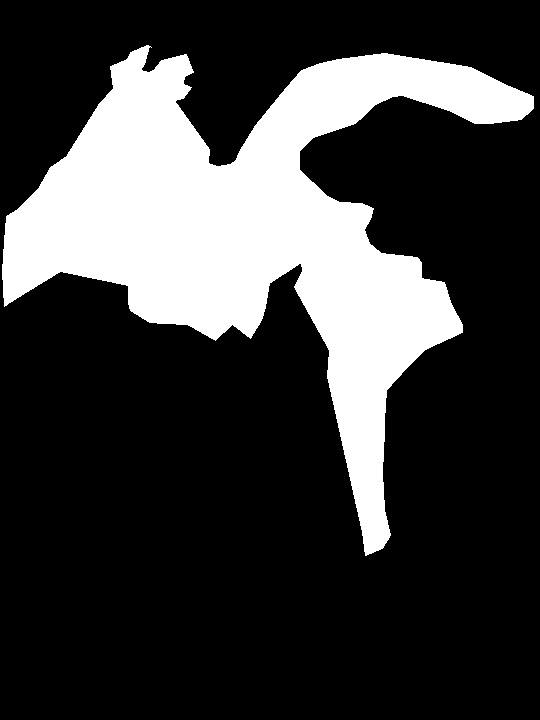Fire: (104, 49, 475, 416)
